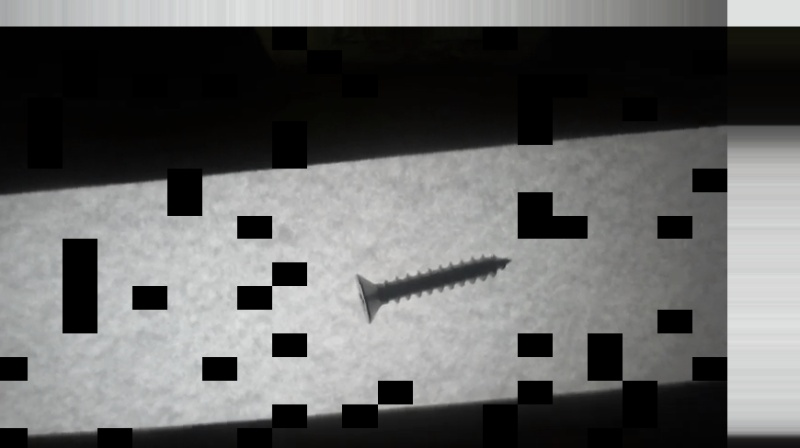S001: (353, 246, 516, 326)
